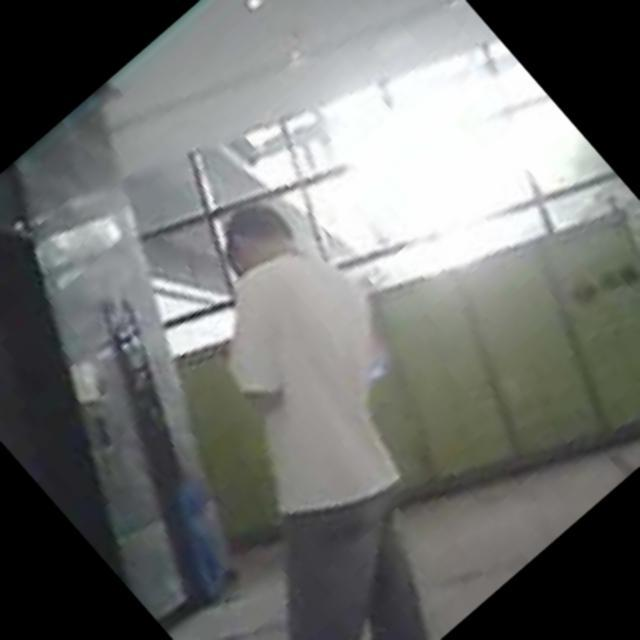person: (7, 180, 570, 640)
